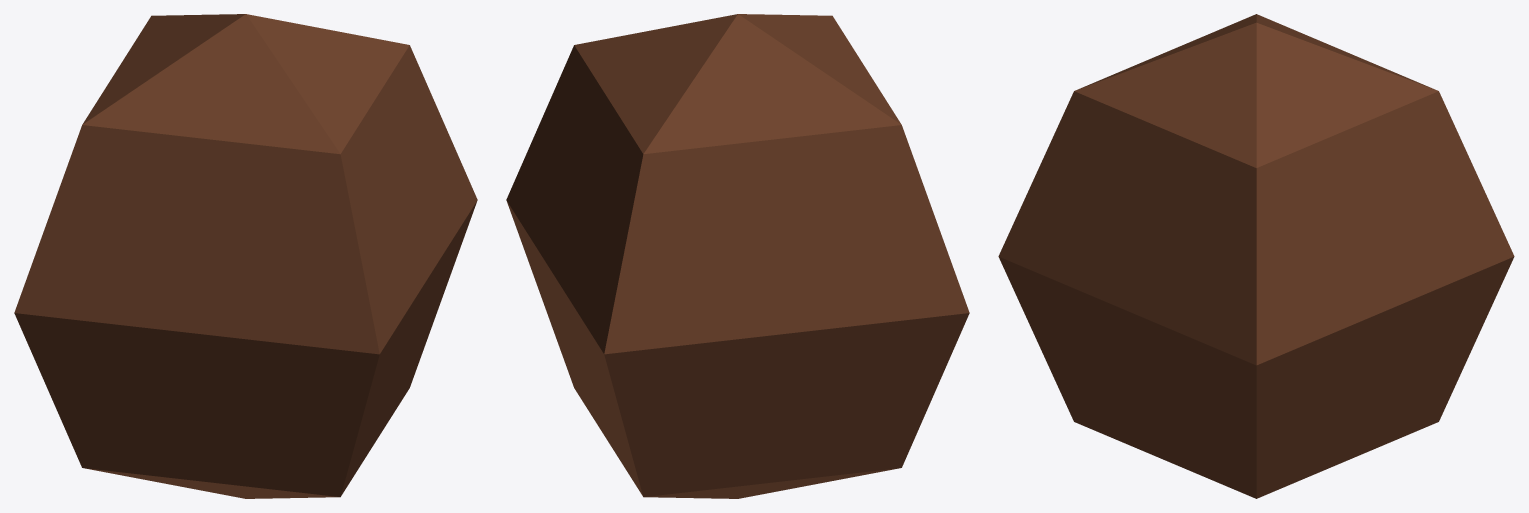
The model's file is Nature_Monkey_Projectile_Poop.fbx.
3 views of the same model, side by side, from view 1: azimuth 30°, elevation 25°; view 2: azimuth 150°, elevation 25°; view 3: azimuth 270°, elevation 25° (orthographic). The views are drawn at different scales.
Visible parts, largest first — view 1: pSphere24; view 2: pSphere24; view 3: pSphere24.
Part boxes in pixels (x1,y1,x2,y2): pSphere24: (14, 14, 477, 498); pSphere24: (506, 14, 969, 498); pSphere24: (998, 14, 1514, 498).
Size of the model in its own units: 38 by 38 by 38.
